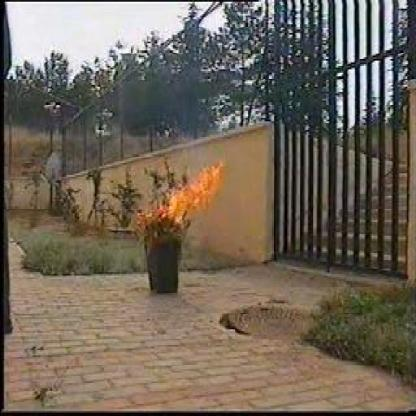foggia-v2-map80-epoch100 - v1 4323: (150, 148, 224, 230)
